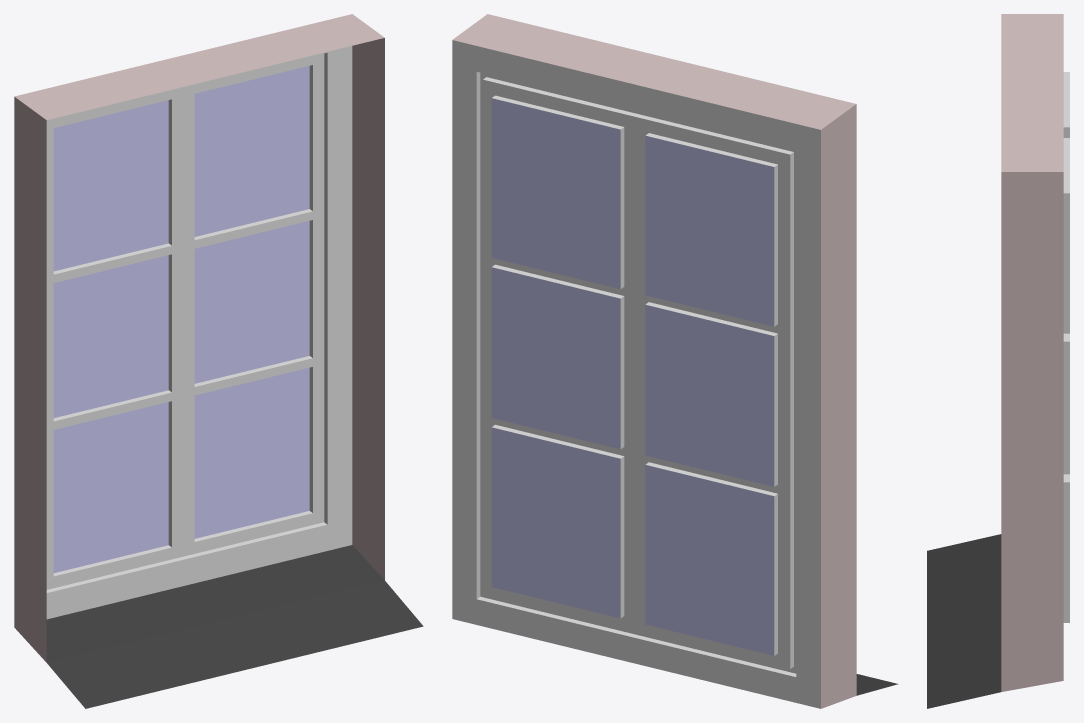
Rendered from window1.glb.
3 renders of one model, left to right at view 1: azimuth 30°, elevation 25°; view 2: azimuth 150°, elevation 25°; view 3: azimuth 270°, elevation 25°, orthographic. The views are drawn at different scales.
Parts seen in each view (by area): view 1: Window; view 2: Window; view 3: Window.
Boxes of the visible parts, <box> form: Window: <box>14,14,423,708</box>; Window: <box>452,14,898,708</box>; Window: <box>927,14,1069,708</box>.
Size of the model in its own units: 0.9 by 1.42 by 0.3438.
